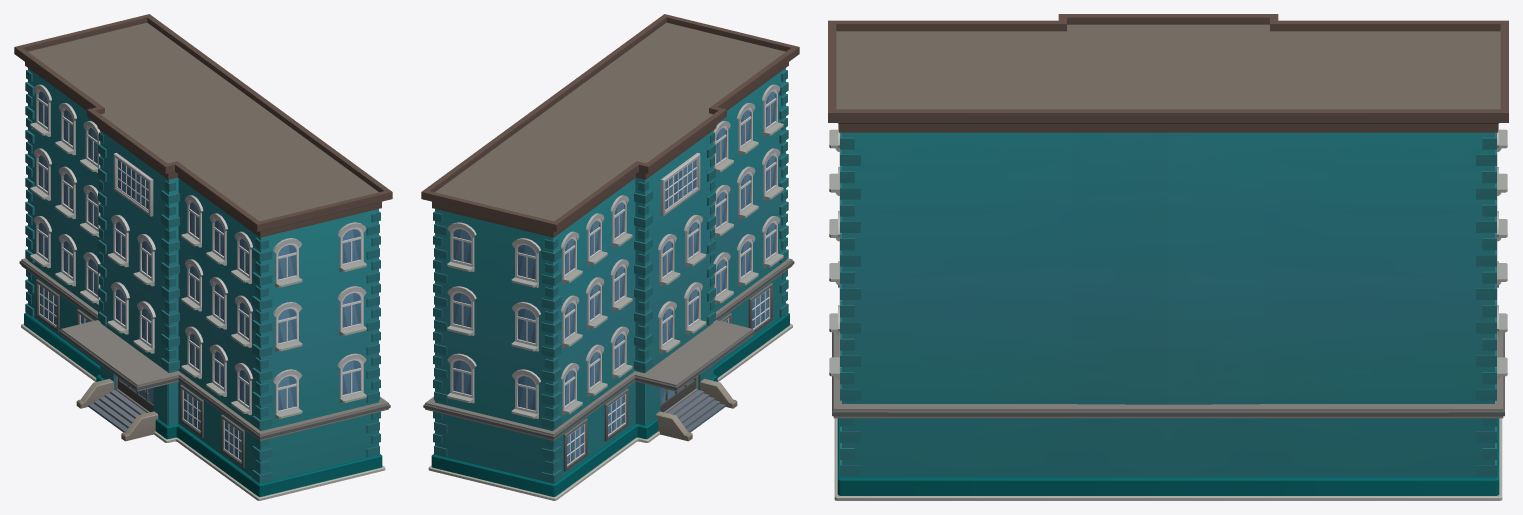
The model's file is Building_6_I.fbx.
3 renders of one model, left to right at view 1: azimuth 30°, elevation 25°; view 2: azimuth 150°, elevation 25°; view 3: azimuth 270°, elevation 25°, orthographic. The views are drawn at different scales.
Parts seen in each view (by area): view 1: Building_6_I; view 2: Building_6_I; view 3: Building_6_I.
Part boxes in pixels (x1,y1,x2,y2): Building_6_I: [14, 14, 392, 500]; Building_6_I: [421, 14, 799, 500]; Building_6_I: [828, 14, 1508, 500].
Size of the model in its own units: 935 by 1440 by 2273.
